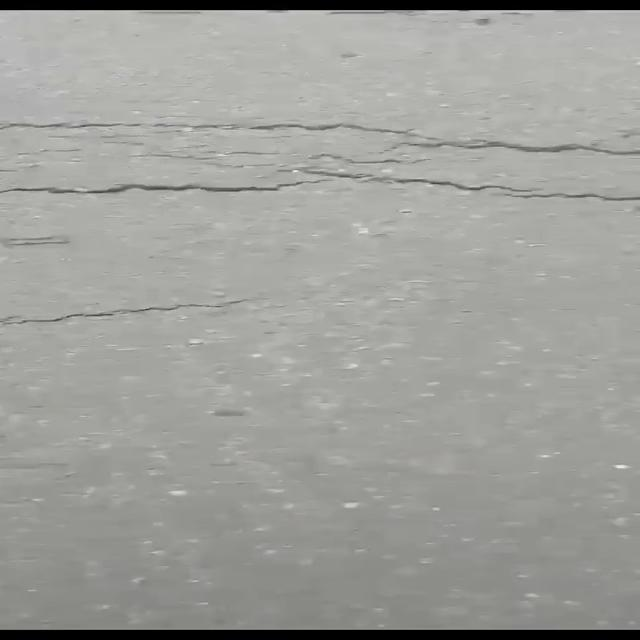Melintang: (0, 105, 640, 175), (3, 162, 640, 217), (0, 287, 256, 336)
